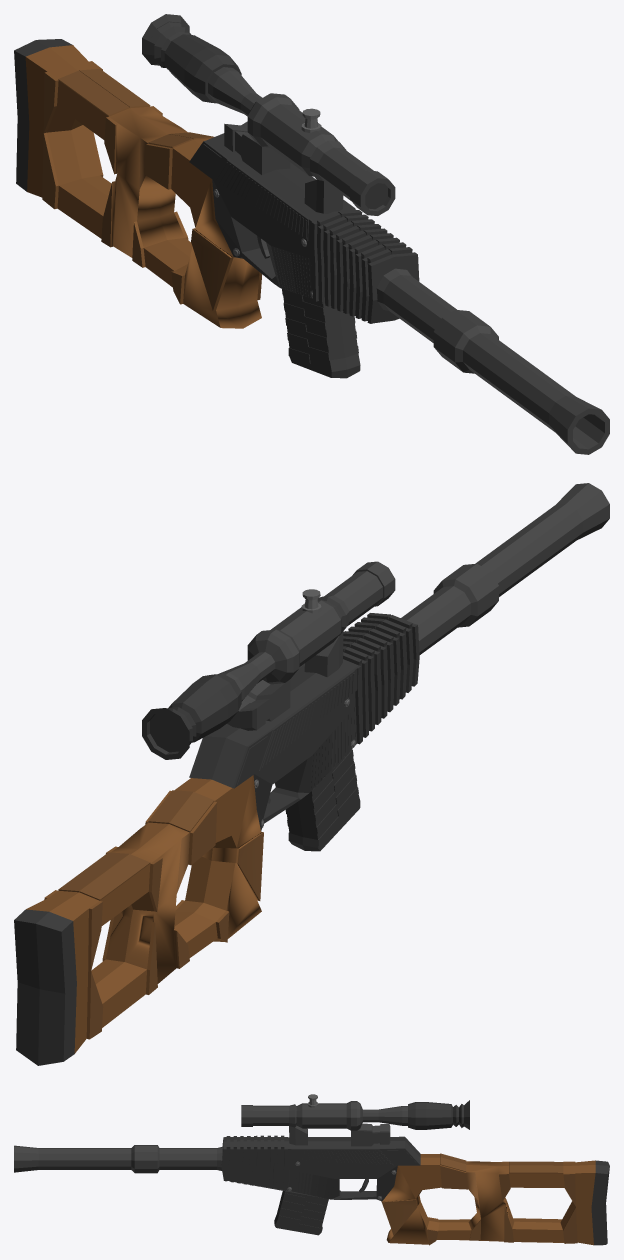
Rendered from Sniperguns.fbx.
The picture shows the model from 3 angles, top to bottom: view 1: azimuth 30°, elevation 25°; view 2: azimuth 150°, elevation 25°; view 3: azimuth 270°, elevation 25°; orthographic projection. The views are drawn at different scales.
Parts seen in each view (by area): view 1: Sniper; view 2: Sniper; view 3: Sniper.
Boxes of the visible parts, x1,y1,x2,y2 form: Sniper: (14,14,609,454); Sniper: (14,483,609,1065); Sniper: (14,1094,609,1245).
Bounding box in the file's own units: 0.2468 × 1.33 × 4.88.
